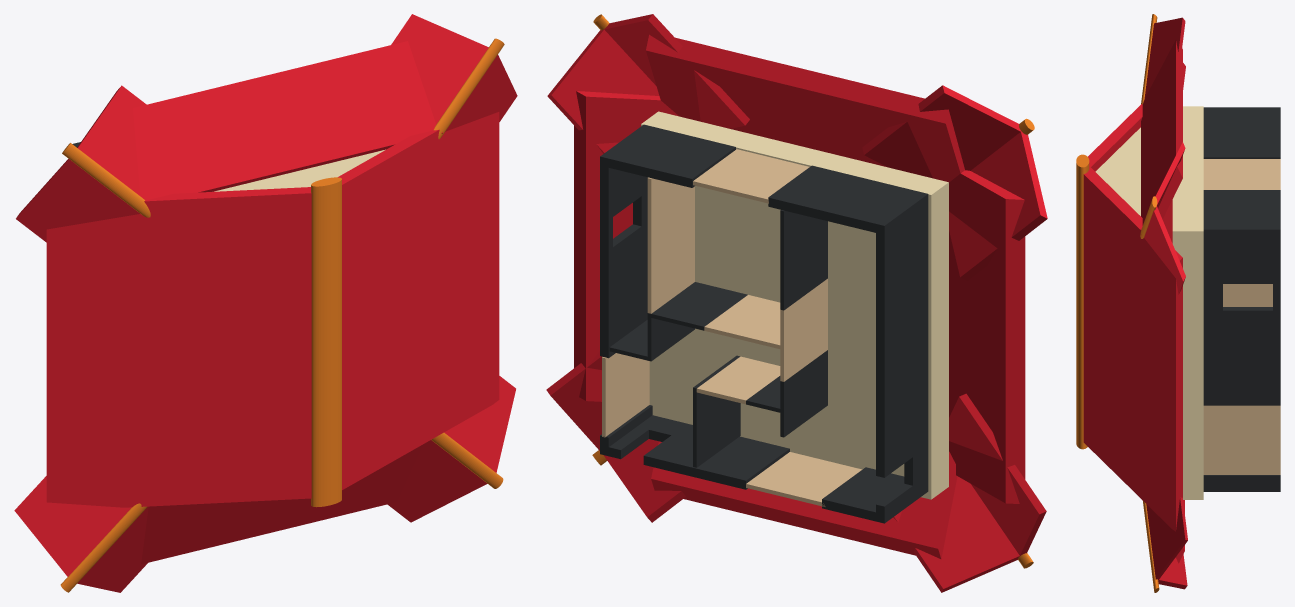
File: tinker.obj
3 views of the same model, side by side, from view 1: azimuth 30°, elevation 25°; view 2: azimuth 150°, elevation 25°; view 3: azimuth 270°, elevation 25° (orthographic). The views are drawn at different scales.
Visible parts, largest first — view 1: obj_14; view 2: obj_14, obj_13, obj_0, obj_5, obj_9, obj_8, obj_4, obj_10, obj_6, obj_3, obj_2, obj_11 (+3 smaller); view 3: obj_14, obj_13, obj_10, obj_9, obj_0.
Part boxes in pixels (x1,y1,x2,y2): obj_14: [14, 14, 517, 592]; obj_14: [546, 14, 1047, 592]; obj_13: [600, 124, 928, 523]; obj_0: [647, 177, 694, 313]; obj_5: [780, 210, 827, 310]; obj_9: [693, 149, 809, 203]; obj_8: [746, 452, 862, 506]; obj_4: [780, 278, 827, 381]; obj_10: [602, 353, 649, 437]; obj_6: [693, 355, 740, 467]; obj_3: [704, 295, 780, 348]; obj_2: [651, 282, 747, 330]; obj_11: [696, 356, 780, 404]; obj_14: [1076, 14, 1203, 592]; obj_13: [1203, 107, 1280, 491]; obj_10: [1203, 405, 1280, 474]; obj_9: [1203, 159, 1280, 189]; obj_0: [1223, 284, 1272, 306].
Bounding box in the file's own units: 132 × 128 × 53.
